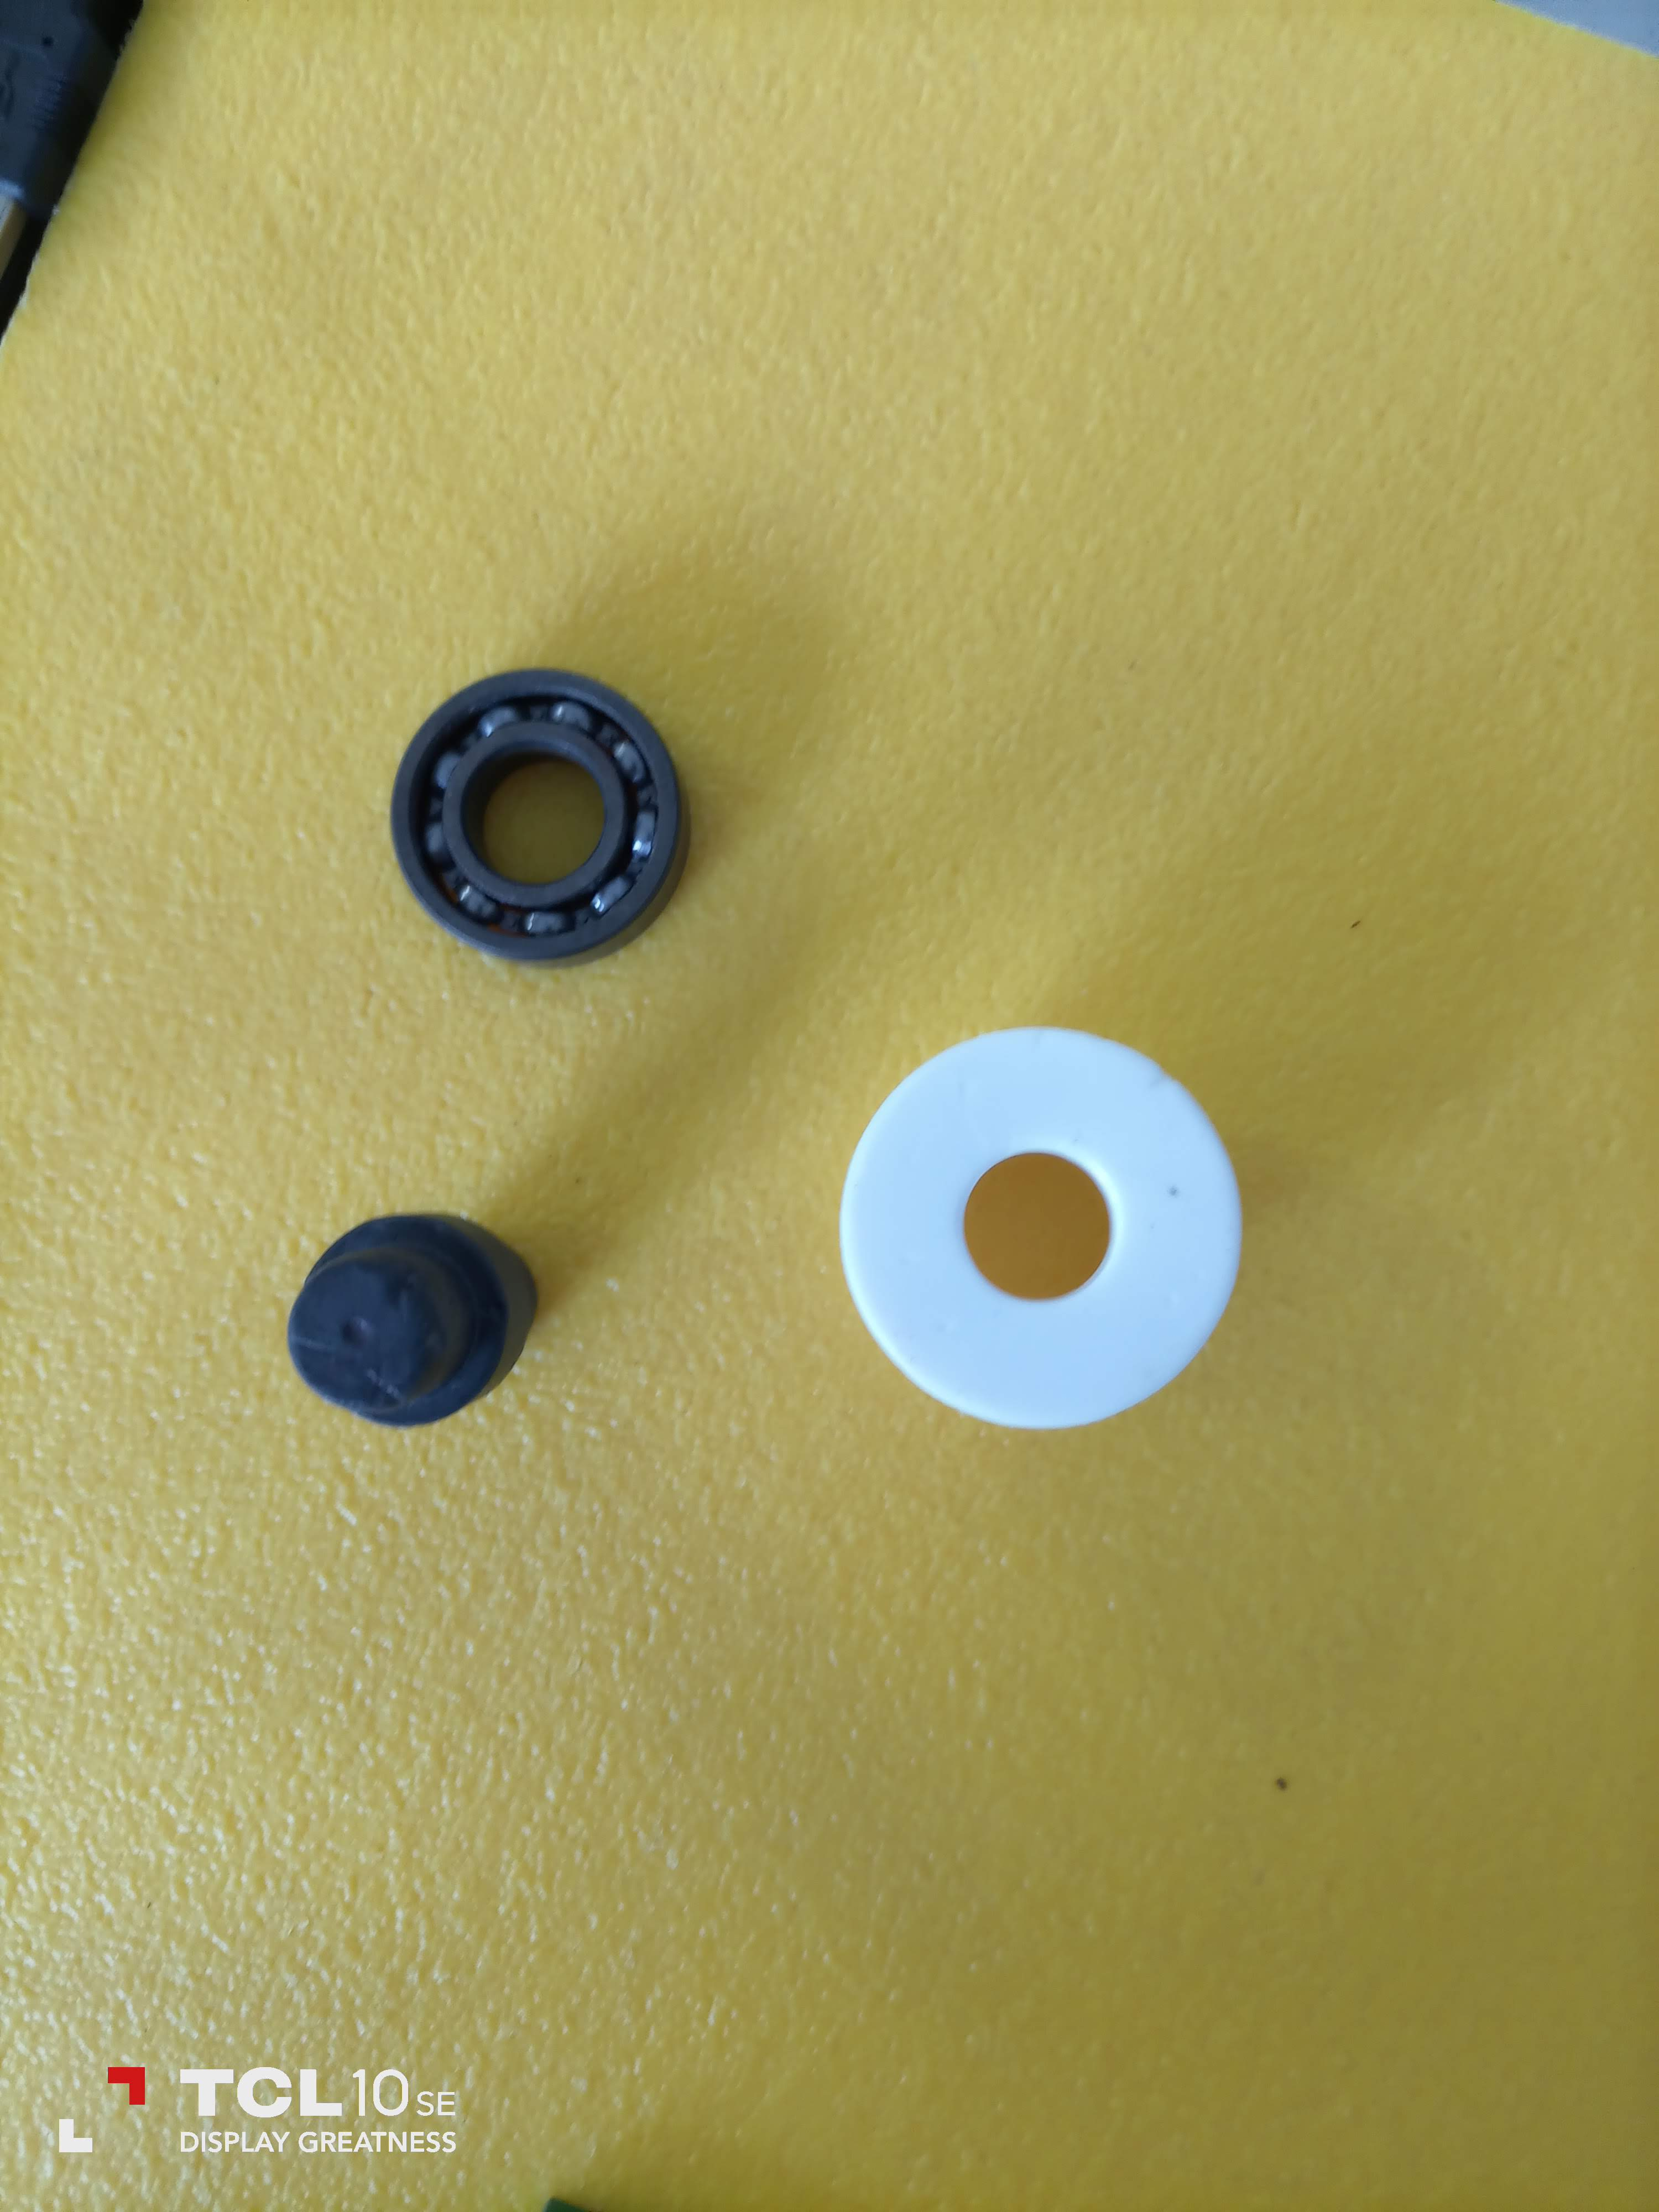Ardatza: (281, 1209, 545, 1430)
Roda: (390, 674, 701, 974)
Tapa: (843, 1014, 1246, 1439)
